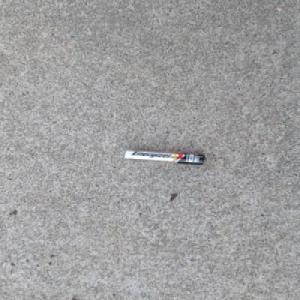Battery: (121, 149, 207, 167)
